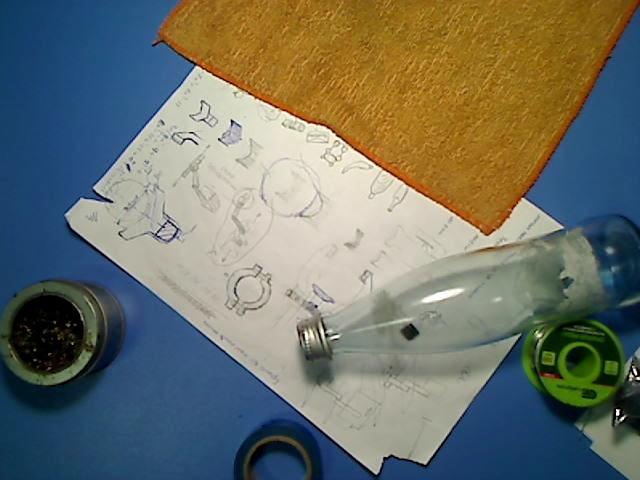bottle: (295, 213, 640, 361)
